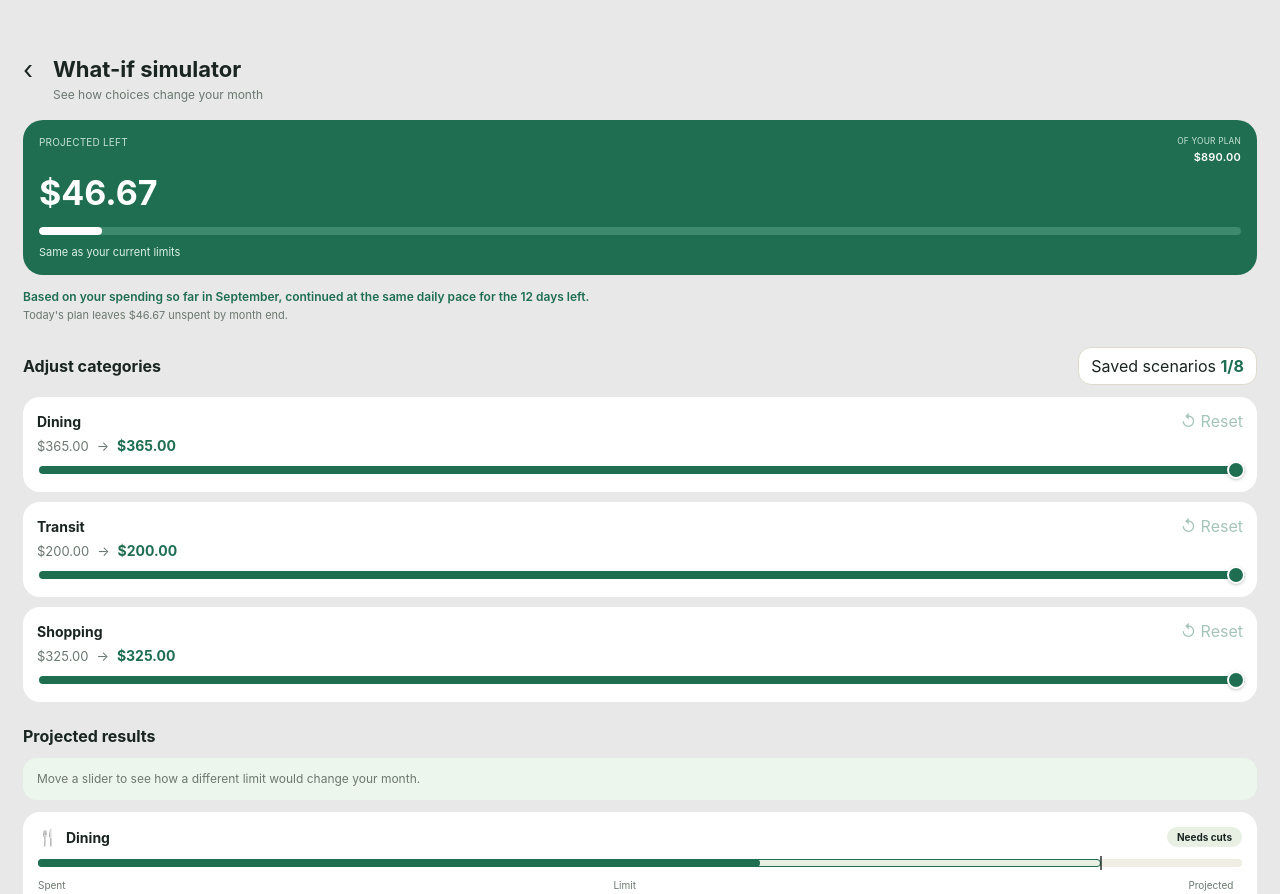
it: What-if simulator › loads scenarios saved earlier, so they survive a reload
The image size is (1280, 894).
What coordinates should you click on to do the following:
click the button "Saved scenarios 1/8"
I would click on:
 (1168, 366)
Its box is 1078,347 -> 1257,385.
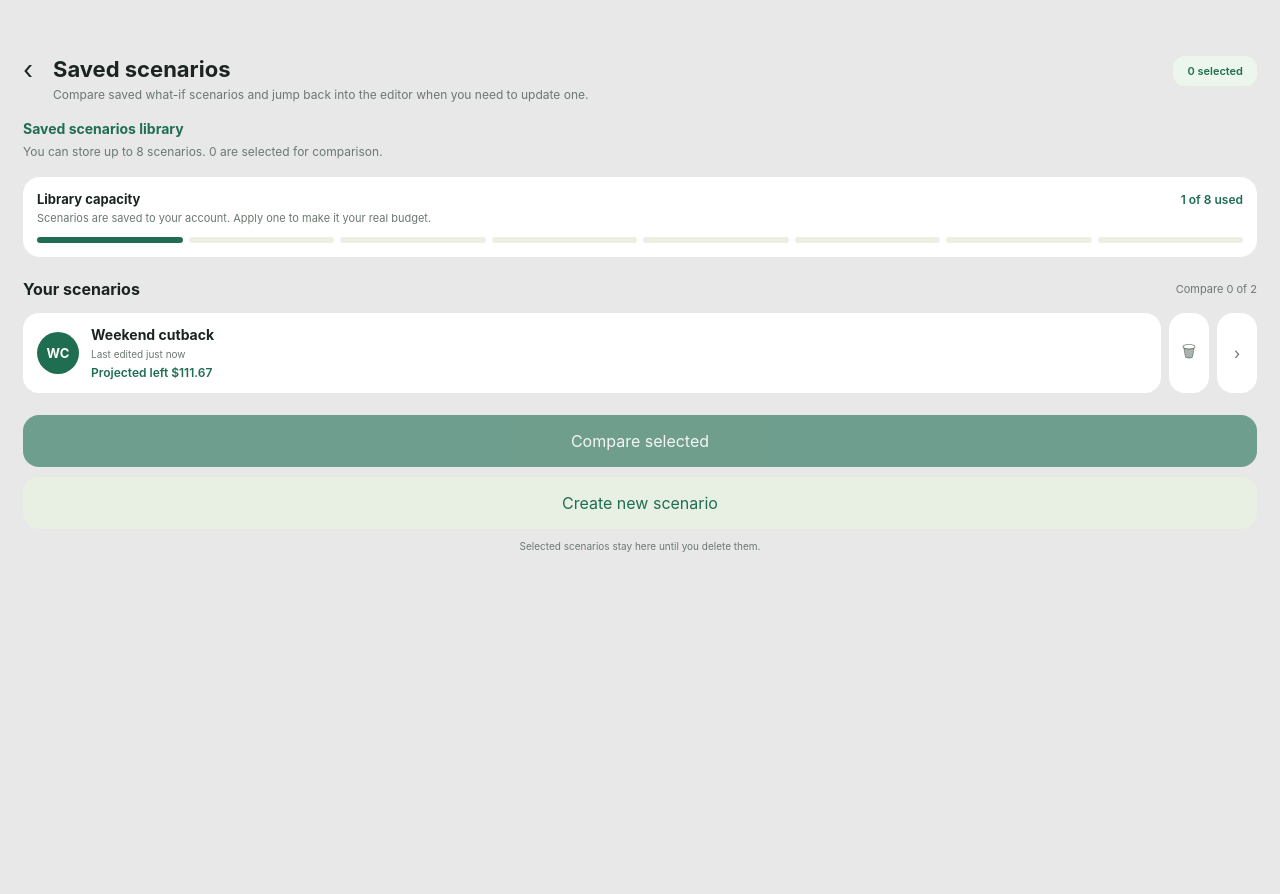
Expected: the text "Weekend cutback" is shown, 91,326 -> 214,343
